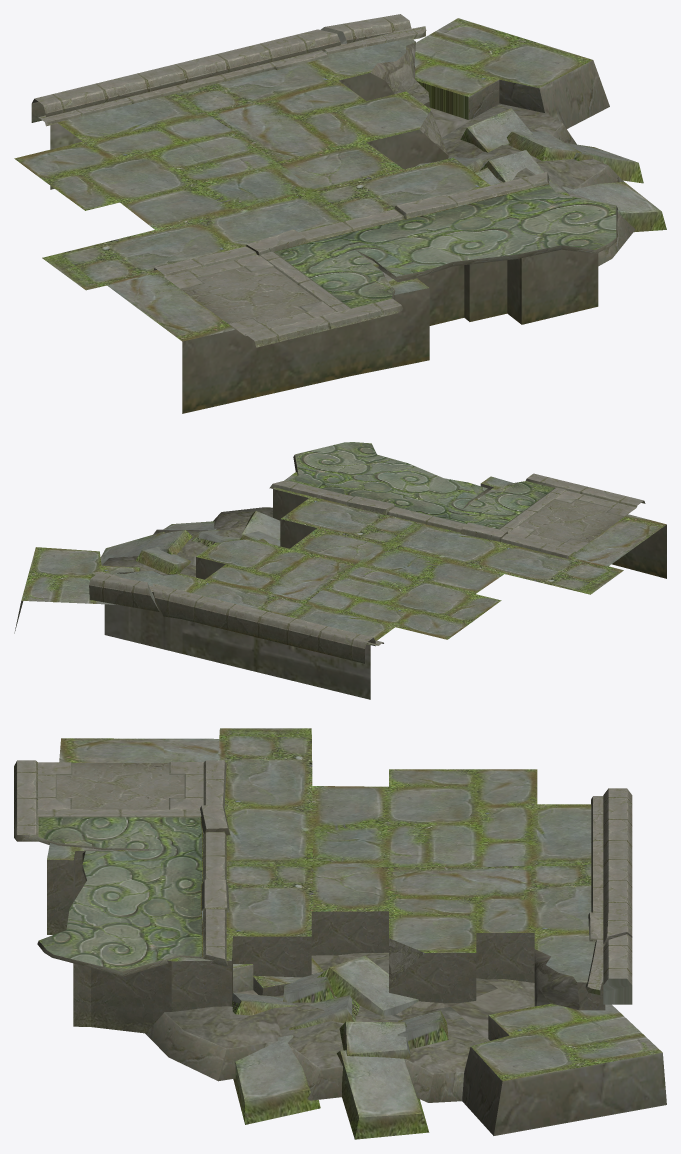
File: wlf_duanqiao02_jgc.FBX
3 views of the same model, one above another, from view 1: azimuth 30°, elevation 25°; view 2: azimuth 150°, elevation 25°; view 3: azimuth 270°, elevation 25° (orthographic). The views are drawn at different scales.
Visible parts, largest first — view 1: wlf_duanqiao02_jgc; view 2: wlf_duanqiao02_jgc; view 3: wlf_duanqiao02_jgc.
Boxes of the visible parts, x1=… form: wlf_duanqiao02_jgc: x1=14, y1=14, x2=666, y2=413; wlf_duanqiao02_jgc: x1=14, y1=442, x2=666, y2=699; wlf_duanqiao02_jgc: x1=14, y1=728, x2=666, y2=1139.
Bounding box in the file's own units: 155 × 24.47 × 129.
